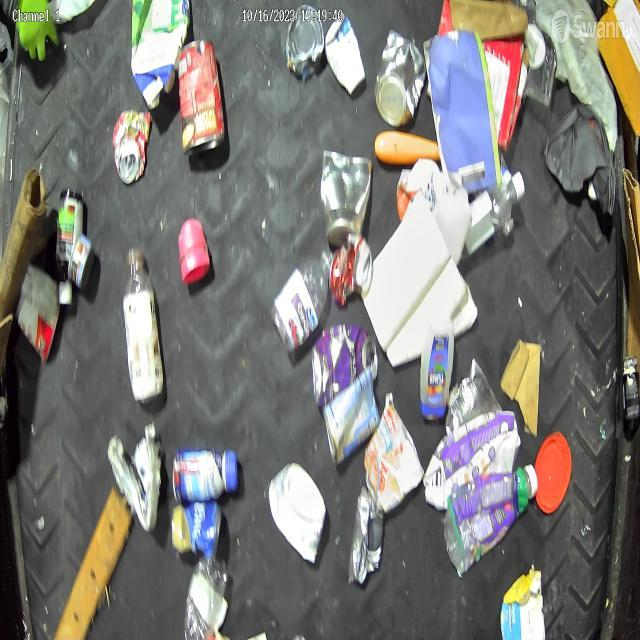can: (362, 388, 426, 512), (174, 33, 228, 160), (310, 321, 378, 408), (322, 367, 381, 467), (320, 146, 373, 251), (374, 28, 428, 127), (445, 356, 502, 438), (346, 486, 386, 589), (113, 106, 153, 188), (329, 233, 372, 306), (170, 498, 222, 558), (287, 4, 325, 80), (68, 232, 95, 292)
plastic_bottle: (271, 245, 335, 356), (459, 169, 526, 262), (184, 552, 228, 640)
